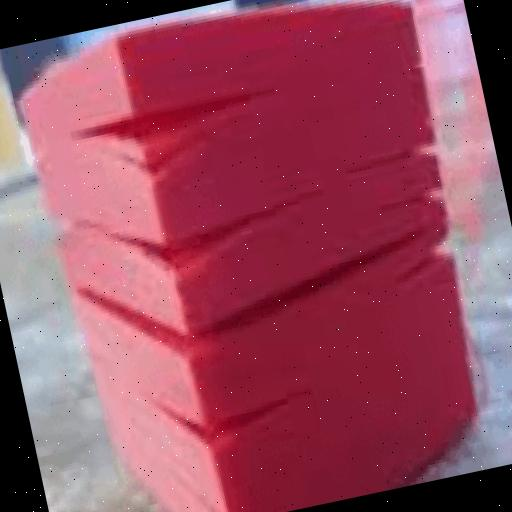cracks: (85, 247, 402, 395), (59, 66, 290, 204), (75, 176, 307, 292), (146, 372, 322, 474)
